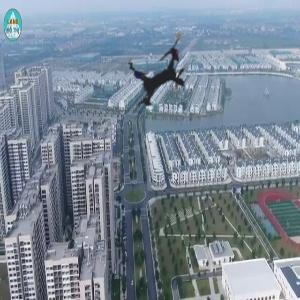drone: (92, 7, 229, 144)
